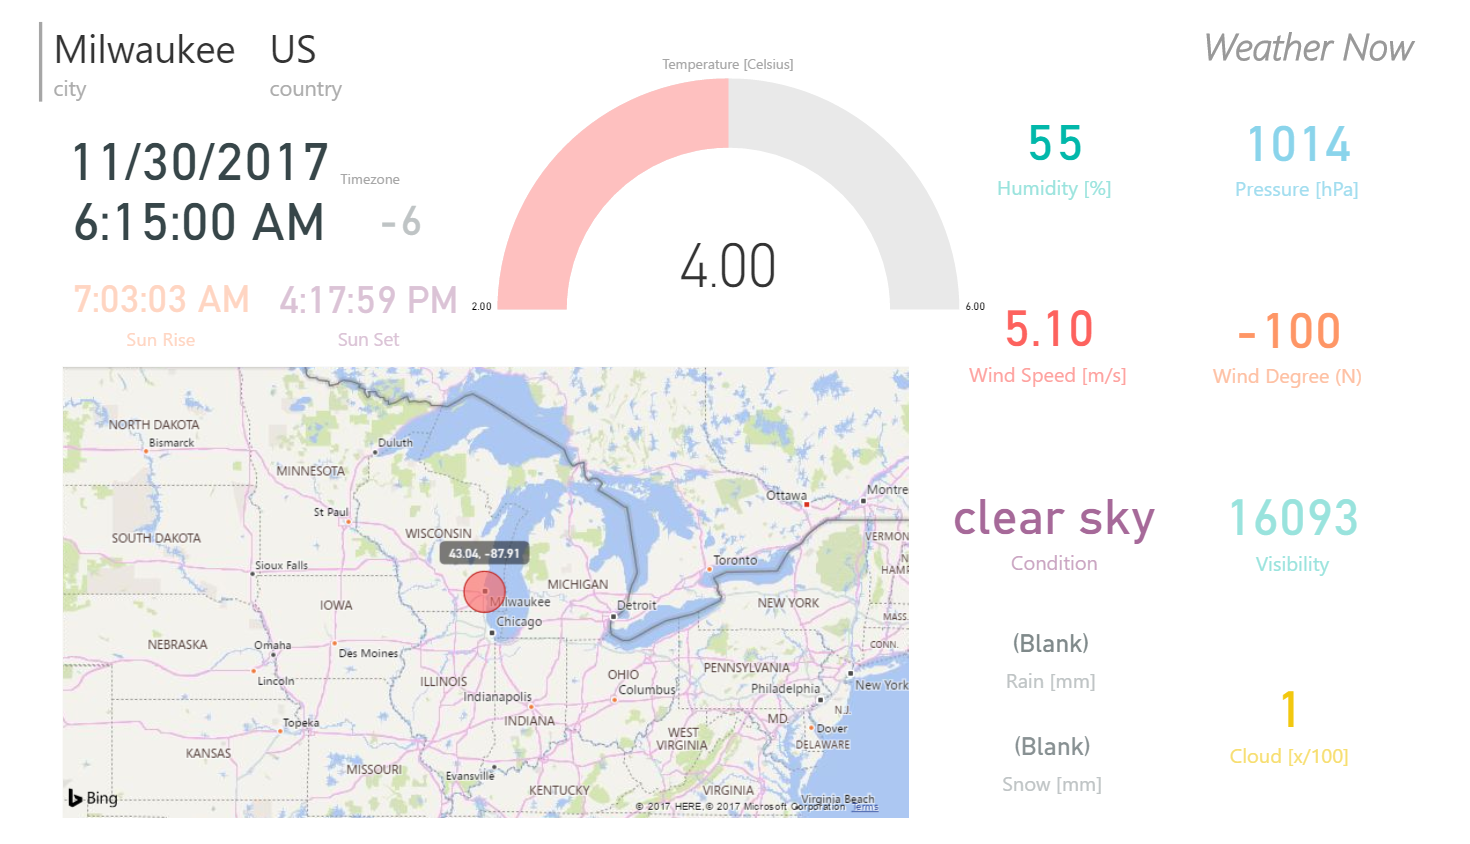

The page's visual inventory and layout, read from the dashboard file:
{"tool":"powerbi","page":{"name":"weather now","canvas":[1280,720],"ordinal":0},"visuals":[{"type":"map","fields":{"X":["weatherNow.longitude"],"Y":["weatherNow.latitude"]},"box":[55.3,299.9,740.7,416],"z":0},{"type":"multiRowCard","fields":{"Values":["weatherNow.city","weatherNow.country"]},"box":[34.5,1.4,396.6,96.7],"z":12},{"type":"card","fields":{"Values":["Sum(weatherNow.time_zone)"]},"box":[295.7,134,111.9,66.3],"z":12},{"type":"card","fields":{"Values":["CountNonNull(weatherNow.rain)"]},"box":[825,508.6,178.3,92.6],"z":13},{"type":"card","fields":{"Values":["CountNonNull(weatherNow.snow)"]},"box":[820.9,586,189.3,116.1],"z":13},{"type":"card","fields":{"Values":["Min(weatherNow.Sun Rise)"]},"box":[22.1,207.3,246,94],"z":15},{"type":"card","fields":{"Values":["Min(weatherNow.Sun Set)"]},"box":[201.8,207.3,246,94],"z":15},{"type":"card","fields":{"Values":["Sum(weatherNow.humidity)"]},"box":[778,55.3,279.2,124.4],"z":1000},{"type":"gauge","fields":{"Y":["Sum(weatherNow.temperature)"],"MinValue":["Sum(weatherNow.temperature_min)"],"MaxValue":["Sum(weatherNow.temperature_max)"]},"box":[396.6,34.5,478.2,230.8],"z":2000},{"type":"card","fields":{"Values":["Sum(weatherNow.wind_speed)"]},"box":[735.2,218.3,353.8,118.8],"z":3000},{"type":"card","fields":{"Values":["Sum(weatherNow.wind_degree)"]},"box":[957.7,221.1,322,117.5],"z":4000},{"type":"card","fields":{"Values":["Min(weatherNow.condition)"]},"box":[778,388.3,279.2,106.4],"z":5000},{"type":"card","fields":{"Values":["Sum(weatherNow.visibility)"]},"box":[984,377.3,279.2,128.5],"z":6000},{"type":"card","fields":{"Values":["Sum(weatherNow.cloud)"]},"box":[981,536.8,279.2,128.8],"z":6000},{"type":"card","fields":{"Values":["Sum(weatherNow.pressure)"]},"box":[990.9,59.4,273.6,117.5],"z":7000},{"type":"card","fields":{"Values":["Min(weatherNow.client_time)"]},"box":[34.5,80.2,286.1,135.4],"z":8000},{"type":"textbox","box":[1041.3,0,238.6,58.3],"z":9000}]}

Visuals, with their boxes in screenshot pixels (x1, y1, x2, y2), scaled from the page's 1280x720 canvas onto the 1470x844 screenshot:
map - weatherNow.longitude x weatherNow.latitude: 64,352,914,839
multiRowCard - weatherNow.city x weatherNow.country: 40,2,495,115
card - Sum(weatherNow.time_zone): 340,157,468,235
card - CountNonNull(weatherNow.rain): 947,596,1152,705
card - CountNonNull(weatherNow.snow): 943,687,1160,823
card - Min(weatherNow.Sun Rise): 25,243,308,353
card - Min(weatherNow.Sun Set): 232,243,514,353
card - Sum(weatherNow.humidity): 893,65,1214,211
gauge - Sum(weatherNow.temperature) x Sum(weatherNow.temperature_min): 455,40,1005,311
card - Sum(weatherNow.wind_speed): 844,256,1251,395
card - Sum(weatherNow.wind_degree): 1100,259,1469,397
card - Min(weatherNow.condition): 893,455,1214,580
card - Sum(weatherNow.visibility): 1130,442,1451,593
card - Sum(weatherNow.cloud): 1127,629,1447,780
card - Sum(weatherNow.pressure): 1138,70,1452,207
card - Min(weatherNow.client_time): 40,94,368,253
textbox: 1196,0,1469,68
